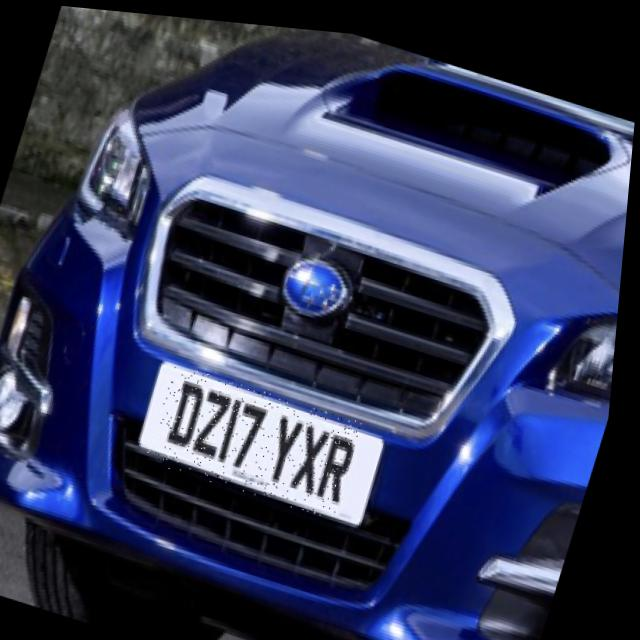license_plate: (150, 358, 372, 514)
